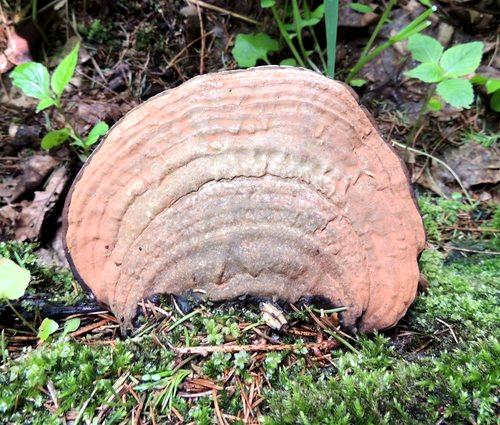Ganoderma - Fruit Body: (63, 61, 423, 334)
